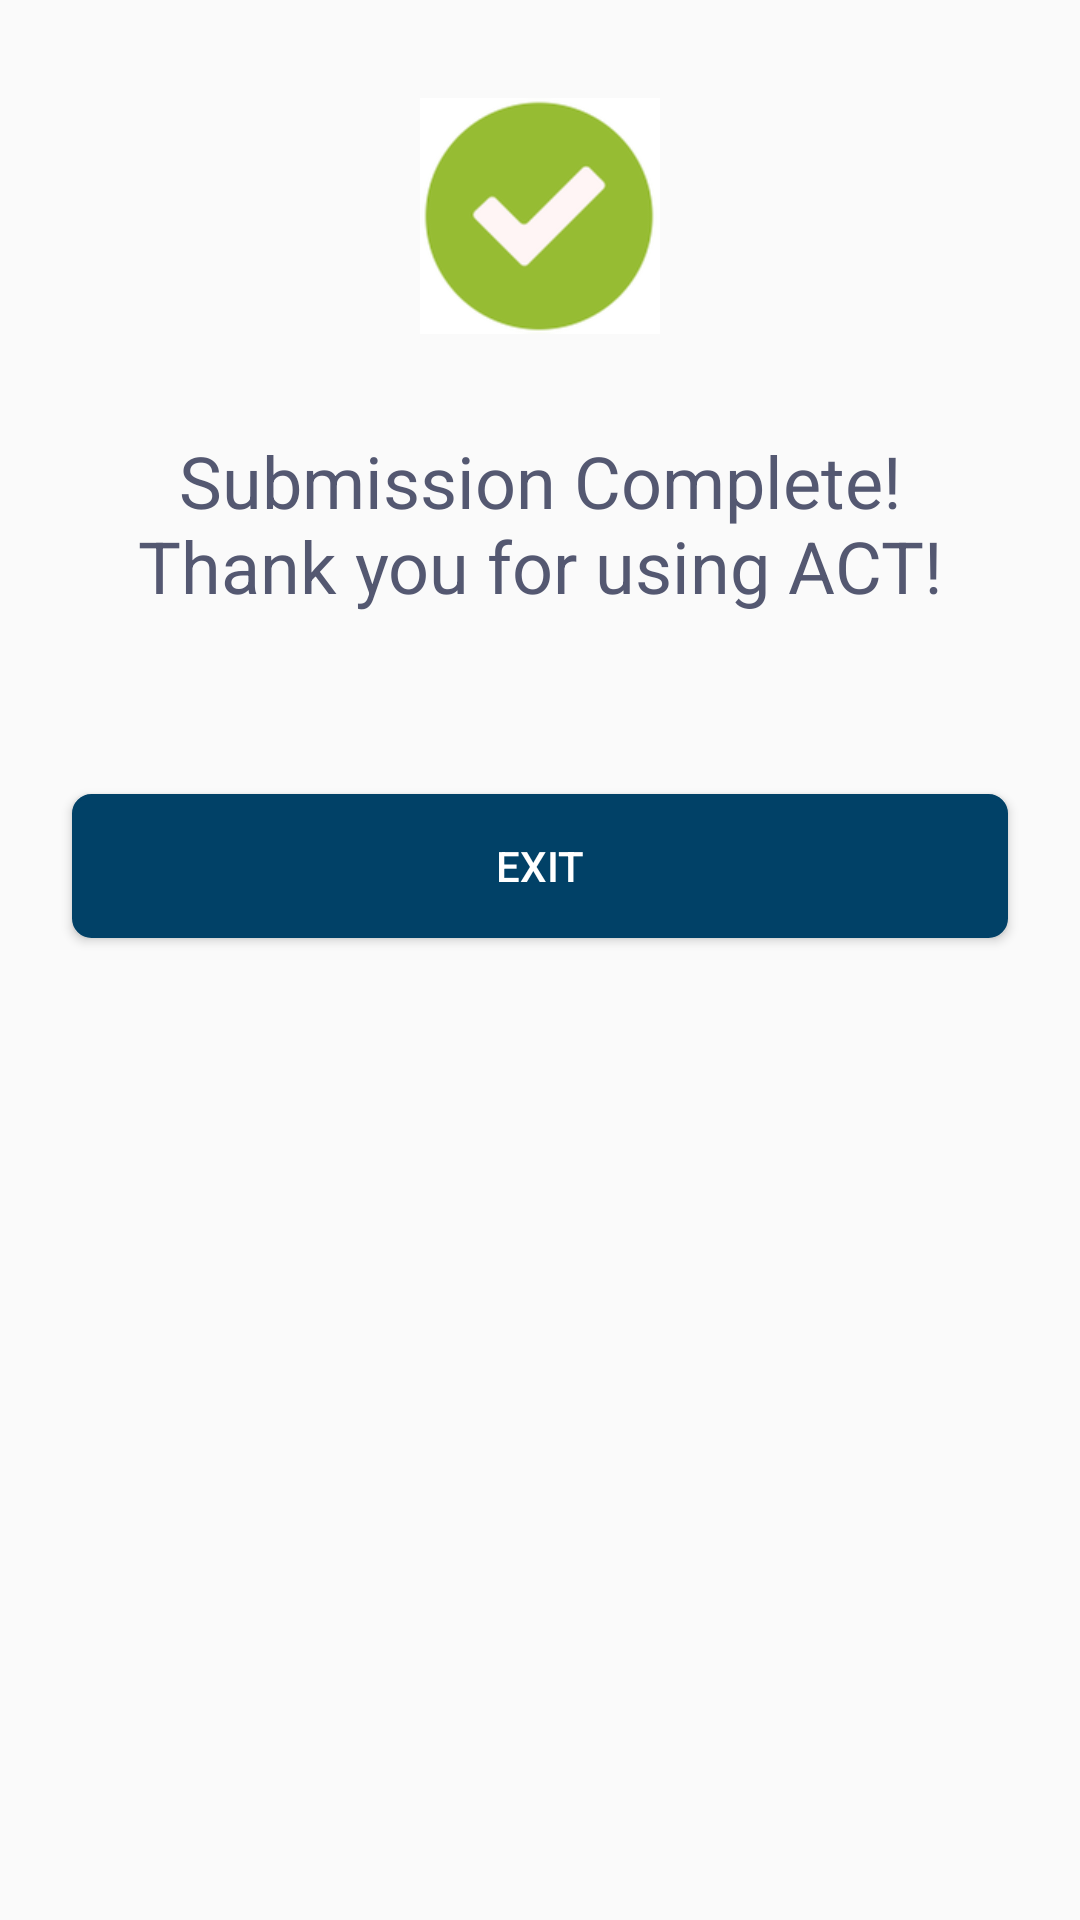

Locate icon controls on the screen. Image size 1080w x 1920h, boxes as (x1, y1, x2, y2).
success: (424, 101, 654, 331)
